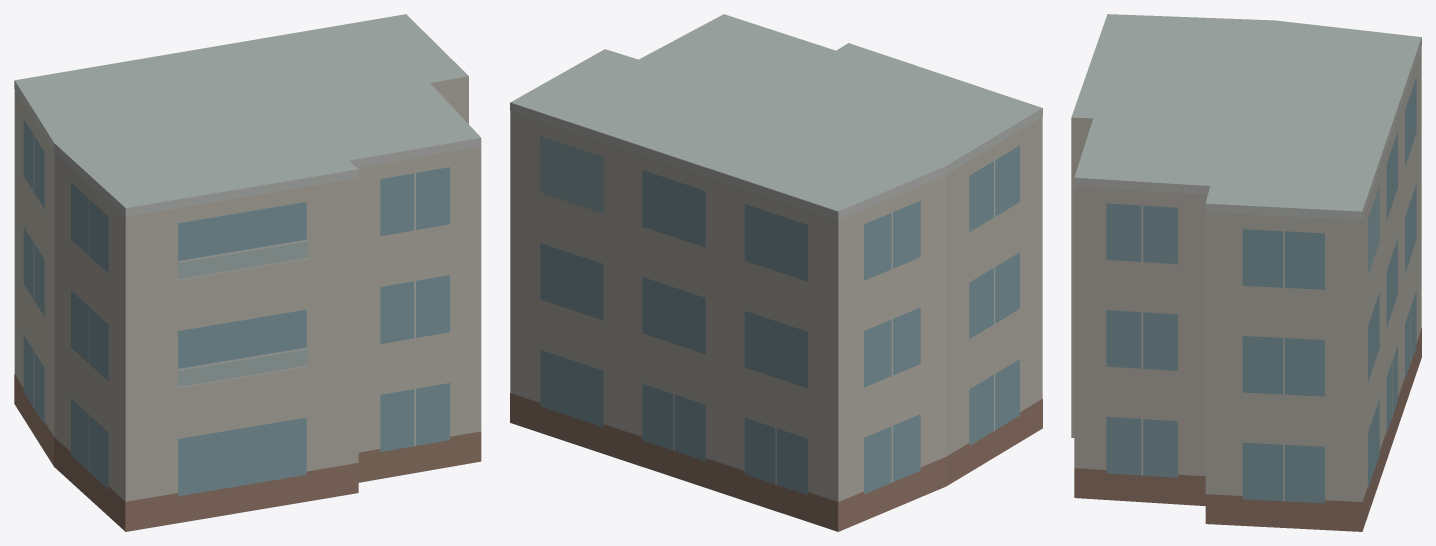
File: survey-upis-32477312.glb
3 views of the same model, side by side, from view 1: azimuth 30°, elevation 25°; view 2: azimuth 150°, elevation 25°; view 3: azimuth 270°, elevation 25° (orthographic).
Visible parts, largest first — view 1: survey-upis-32477312.tmp; view 2: survey-upis-32477312.tmp; view 3: survey-upis-32477312.tmp.
Part boxes in pixels (x1,y1,x2,y2): survey-upis-32477312.tmp: (14,14,481,531); survey-upis-32477312.tmp: (510,14,1042,531); survey-upis-32477312.tmp: (1071,14,1421,531).
Size of the model in its own units: 11.92 by 9 by 8.94.
